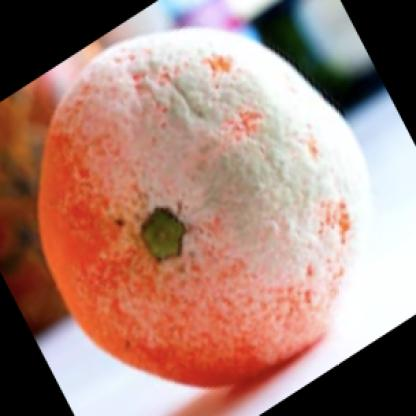rotten: (42, 28, 363, 390)
